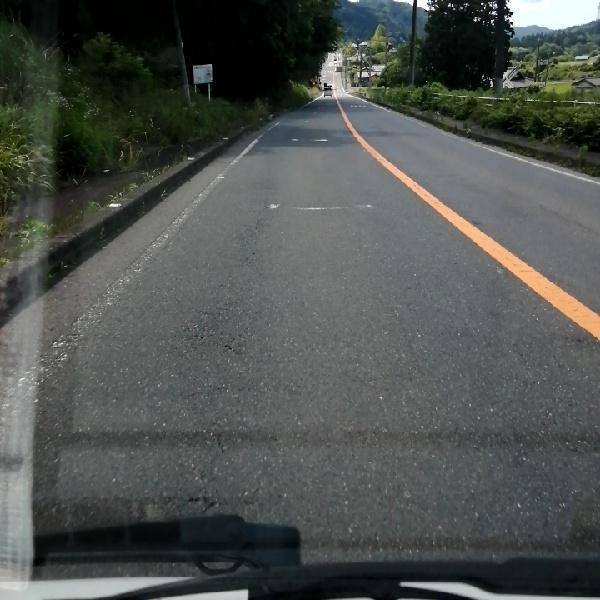D00: (152, 331, 276, 511)
D44: (13, 155, 244, 420)
